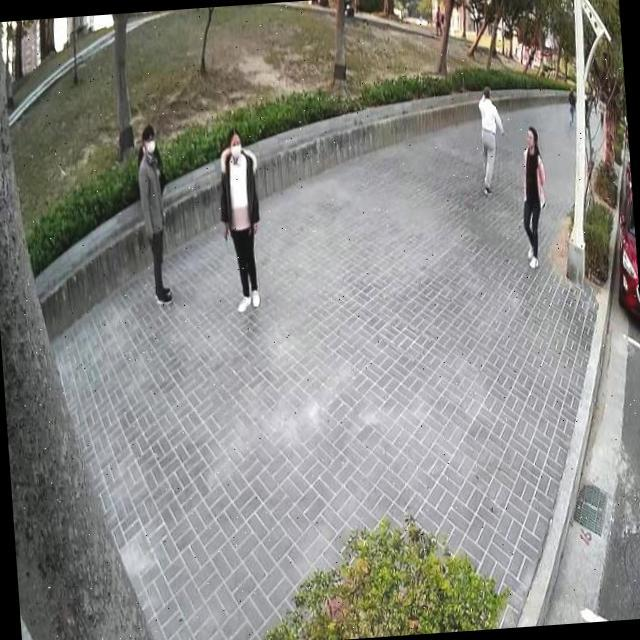person: (212, 120, 269, 315), (132, 120, 176, 308), (514, 122, 552, 272), (472, 82, 510, 198), (565, 80, 578, 130), (580, 88, 592, 136), (432, 1, 445, 40), (596, 92, 606, 130)
